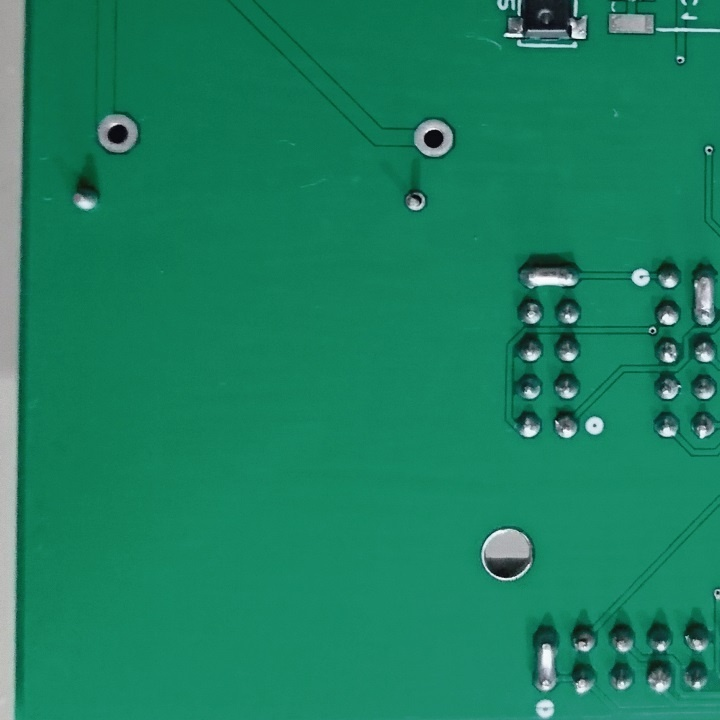F: (93, 109, 142, 159), (410, 113, 459, 163), (399, 182, 430, 216)
P: (513, 260, 586, 292), (529, 623, 561, 695), (690, 261, 720, 329)
